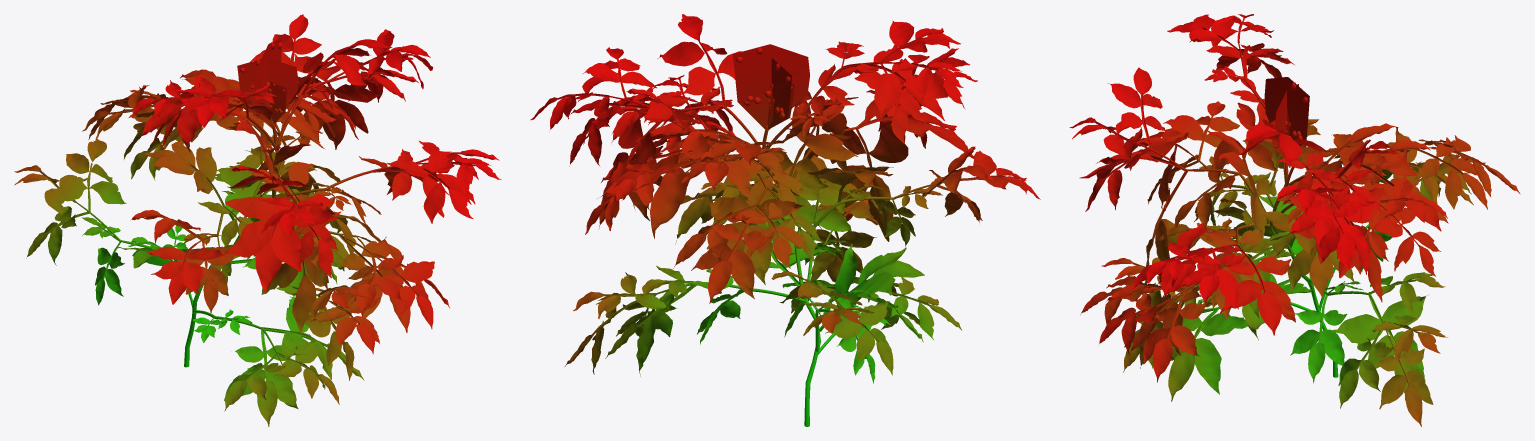
Rendered from Var4_LOD0.fbx.
3 renders of one model, left to right at view 1: azimuth 30°, elevation 25°; view 2: azimuth 150°, elevation 25°; view 3: azimuth 270°, elevation 25°, orthographic. The views are drawn at different scales.
Visible parts, largest first — view 1: _ds9n_Var4_LOD0; view 2: _ds9n_Var4_LOD0; view 3: _ds9n_Var4_LOD0.
Boxes of the visible parts, bbox=[...] form: _ds9n_Var4_LOD0: bbox=[14, 14, 501, 426]; _ds9n_Var4_LOD0: bbox=[530, 14, 1040, 426]; _ds9n_Var4_LOD0: bbox=[1069, 14, 1520, 426].
Bounding box in the file's own units: 101 × 84.95 × 104.
